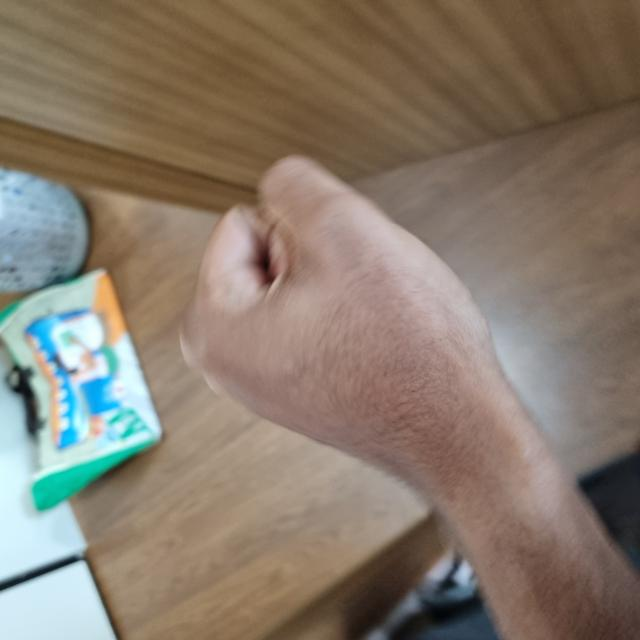Rock: (156, 189, 483, 503)
